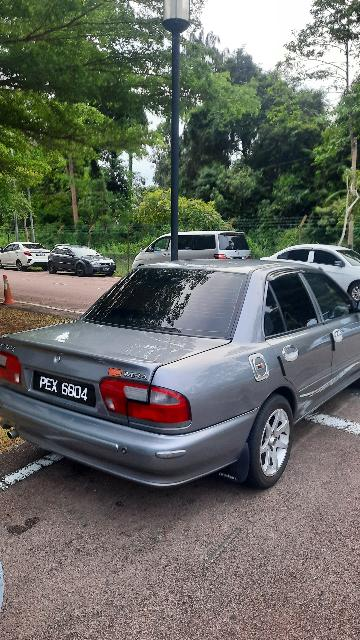License_Plate: (30, 373, 98, 410)
car: (1, 257, 360, 494)
